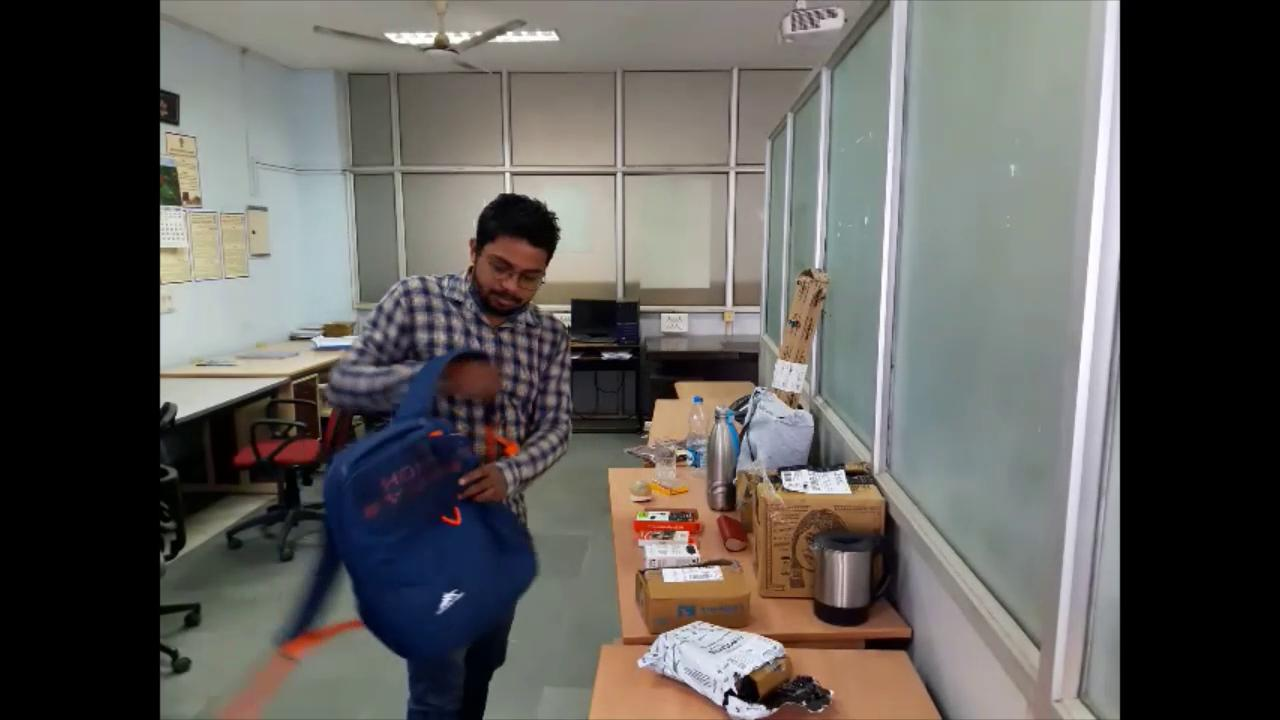shoplifting: (320, 190, 585, 720)
